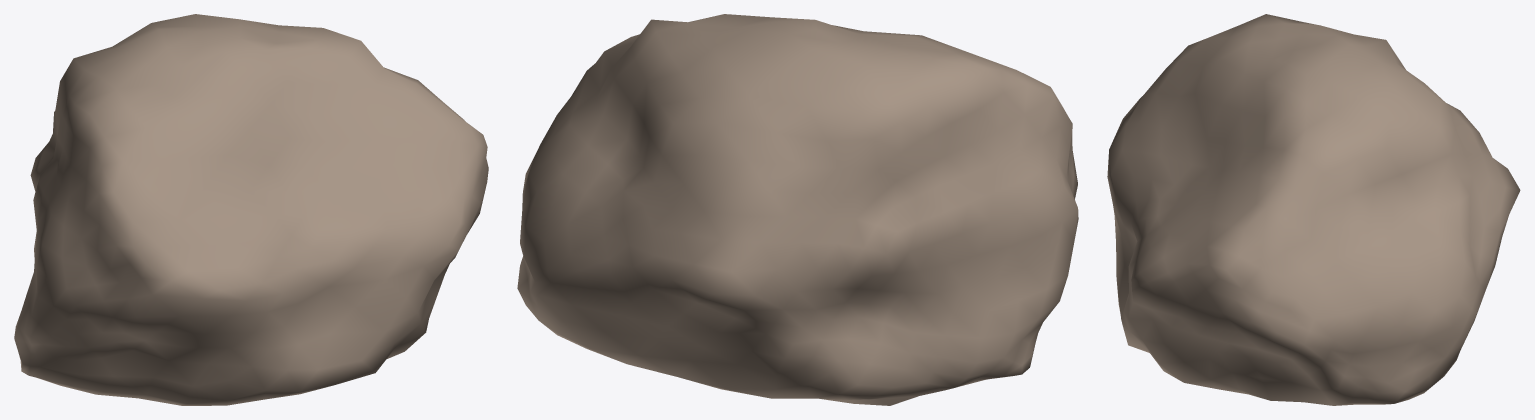
The model's file is piedra_G.glb.
3 views of the same model, side by side, from view 1: azimuth 30°, elevation 25°; view 2: azimuth 150°, elevation 25°; view 3: azimuth 270°, elevation 25° (orthographic). The views are drawn at different scales.
Visible parts, largest first — view 1: Roca_Gigante; view 2: Roca_Gigante; view 3: Roca_Gigante.
Boxes of the visible parts, left/top/right/bottom form: Roca_Gigante: left=14, top=14, right=488, bottom=405; Roca_Gigante: left=517, top=14, right=1078, bottom=405; Roca_Gigante: left=1107, top=14, right=1520, bottom=405.
Bounding box in the file's own units: 7.66 × 4.97 × 6.44.
